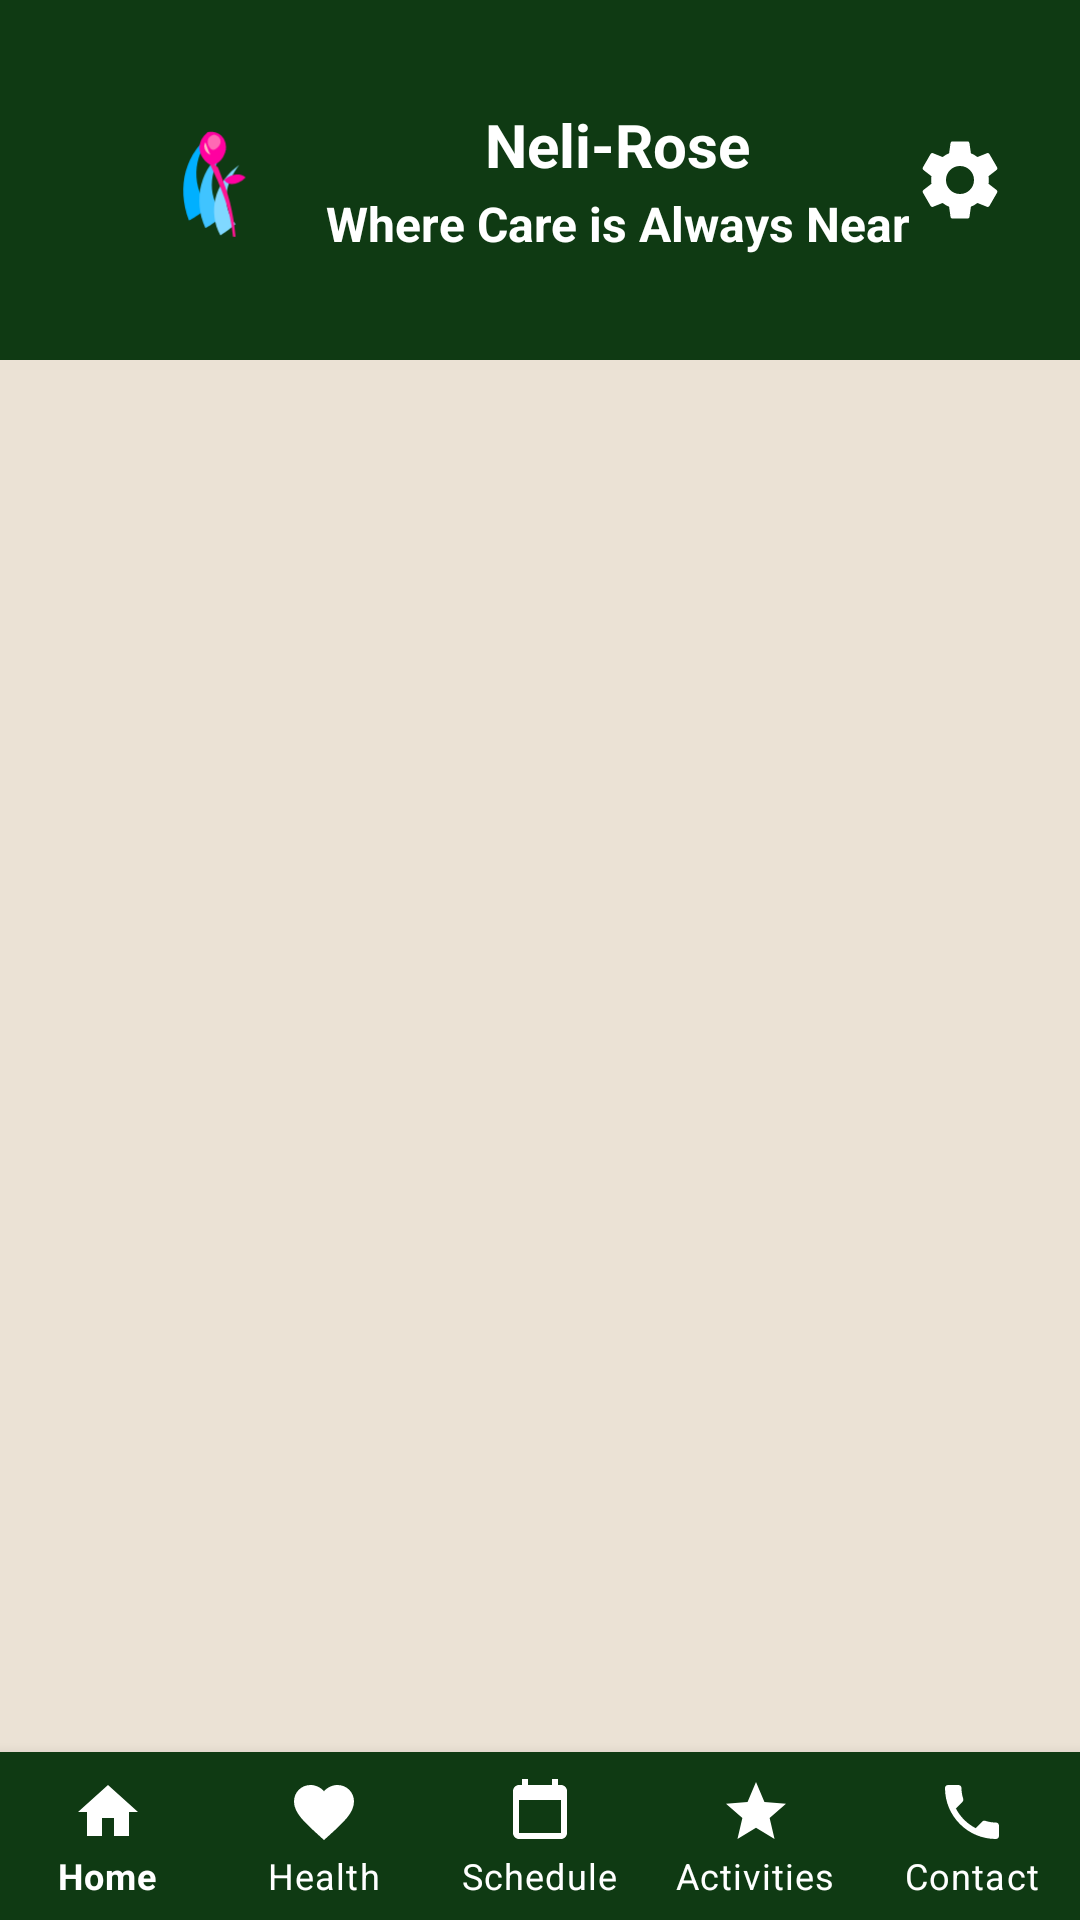

Icons on this 1080px x 1920px Android screen, each with the point to tap as point (x, y):
Settings: point (946, 191)
